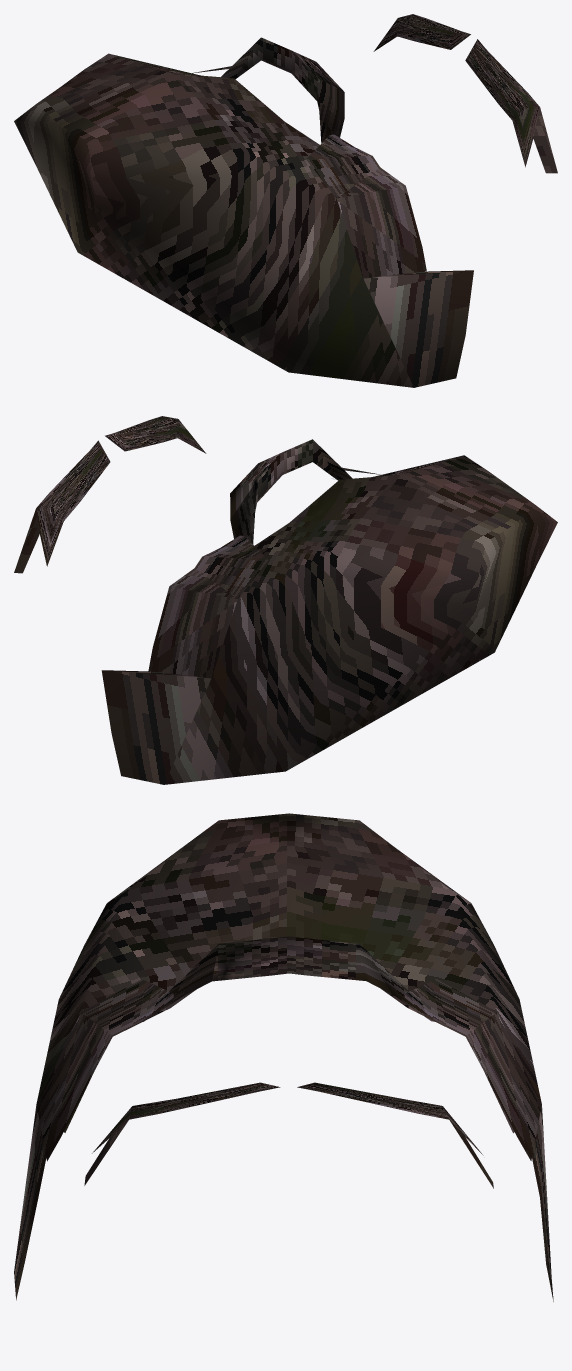
The model's file is IR_Beard03.glb.
3 renders of one model, top to bottom at view 1: azimuth 30°, elevation 25°; view 2: azimuth 150°, elevation 25°; view 3: azimuth 270°, elevation 25°, orthographic. The views are drawn at different scales.
Visible parts, largest first — view 1: IR_BEARD03; view 2: IR_BEARD03; view 3: IR_BEARD03.
Part boxes in pixels (x1,y1,x2,y2): IR_BEARD03: [14, 14, 557, 387]; IR_BEARD03: [14, 416, 557, 784]; IR_BEARD03: [14, 813, 553, 1301].
Bounding box in the file's own units: 0.194 × 0.118 × 0.17.
1 material, 1 textured.
